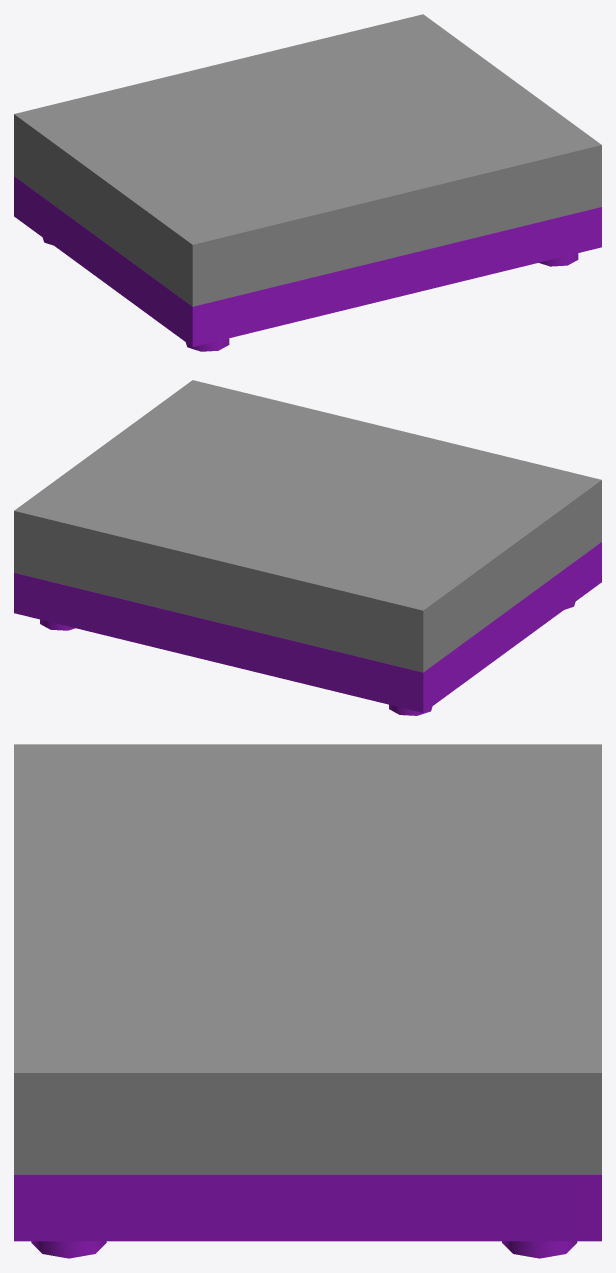
Rendered from shop cont player lod1.FBX.
3 renders of one model, top to bottom at view 1: azimuth 30°, elevation 25°; view 2: azimuth 150°, elevation 25°; view 3: azimuth 270°, elevation 25°, orthographic. The views are drawn at different scales.
Visible parts, largest first — view 1: Box407, Box406; view 2: Box407, Box406; view 3: Box407, Box406.
Boxes of the visible parts, bbox=[...] form: Box407: bbox=[14, 14, 601, 306]; Box406: bbox=[14, 176, 601, 351]; Box407: bbox=[14, 380, 601, 672]; Box406: bbox=[14, 542, 601, 715]; Box407: bbox=[14, 744, 601, 1174]; Box406: bbox=[14, 1174, 601, 1258].
Size of the model in its own units: 0.8252 by 0.2261 by 0.624.
